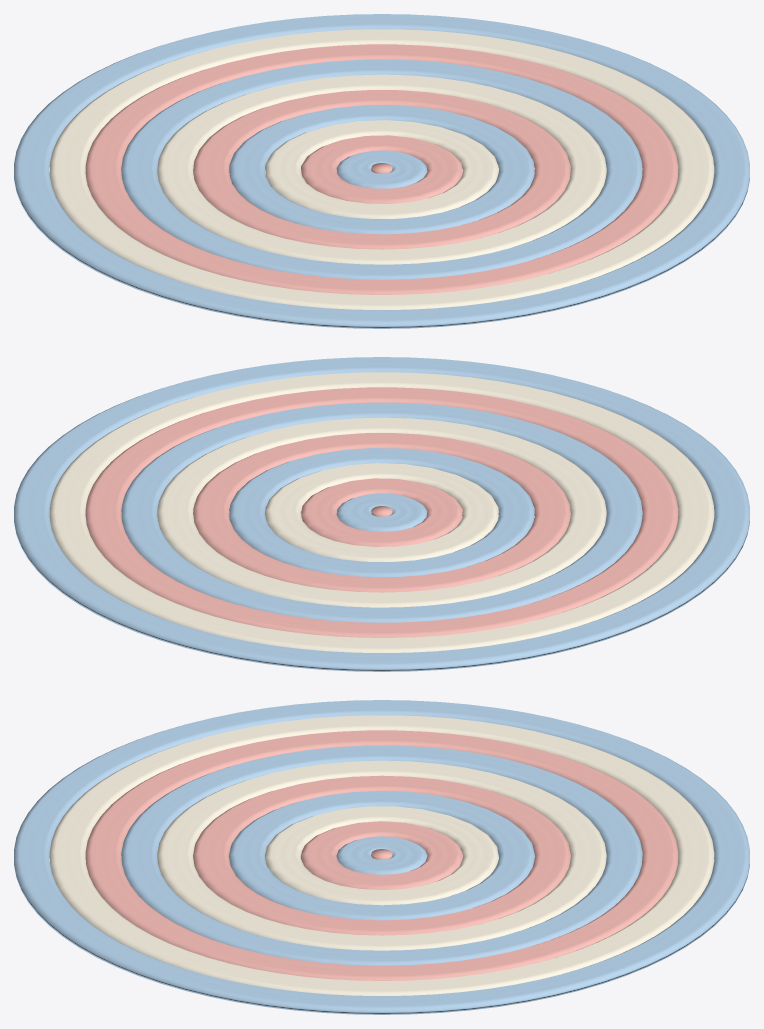
File: TanksRug.glb
The picture shows the model from 3 angles, top to bottom: view 1: azimuth 30°, elevation 25°; view 2: azimuth 150°, elevation 25°; view 3: azimuth 270°, elevation 25°; orthographic projection.
Visible parts, largest first — view 1: Outer, Middle, Inner; view 2: Outer, Middle, Inner; view 3: Outer, Middle, Inner.
Boxes of the visible parts, <box> form: Outer: <box>14,14,749,328</box>; Middle: <box>49,29,714,309</box>; Inner: <box>85,44,678,294</box>; Outer: <box>14,357,749,671</box>; Middle: <box>49,372,714,652</box>; Inner: <box>85,387,678,637</box>; Outer: <box>14,700,749,1014</box>; Middle: <box>49,715,714,995</box>; Inner: <box>85,730,678,980</box>.
Bounding box in the file's own units: 45.2 × 0.42 × 45.16.
